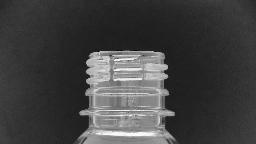No Cap: (74, 46, 180, 120)
